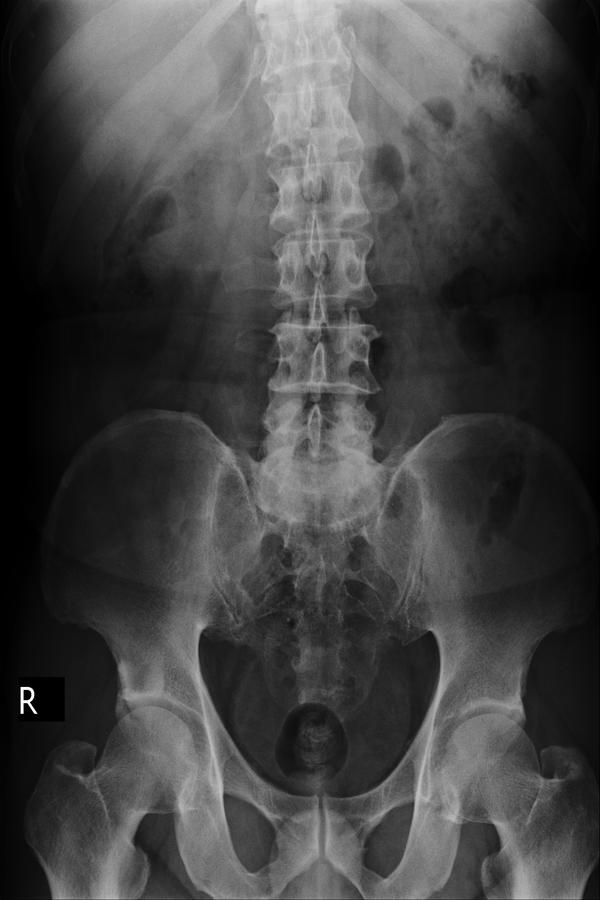lumbar scoliosis: (250, 68, 383, 472)
